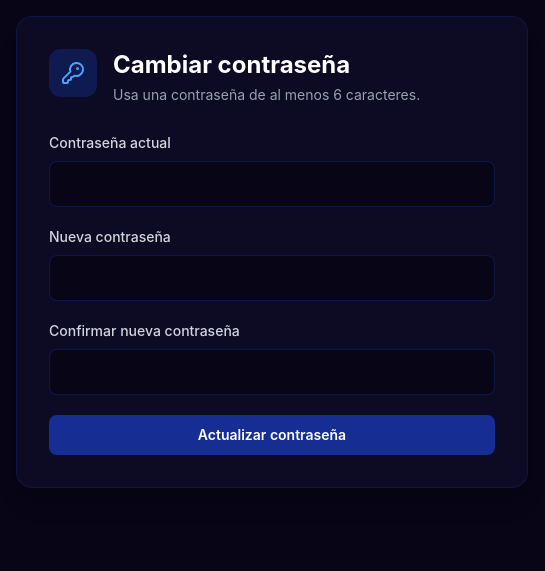
Test: ChangePasswordPage › no envía el formulario si la confirmación no coincide
In the password field labelled "Contraseña actual": (272, 184) [49,161,495,207], type "actual123"
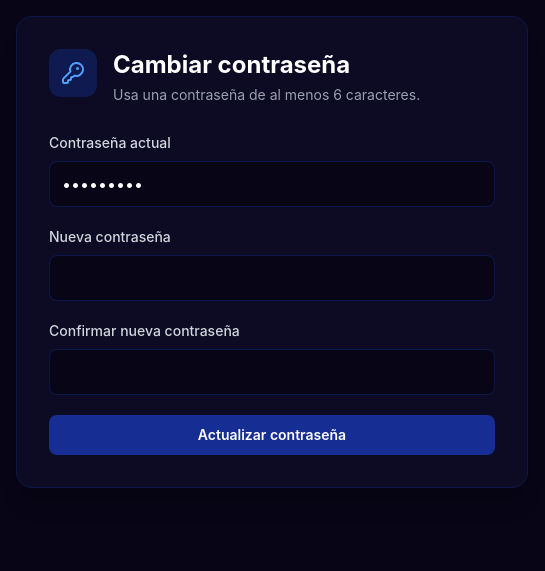
In the password field labelled "Nueva contraseña": (272, 278) [49,255,495,301], type "nueva123"
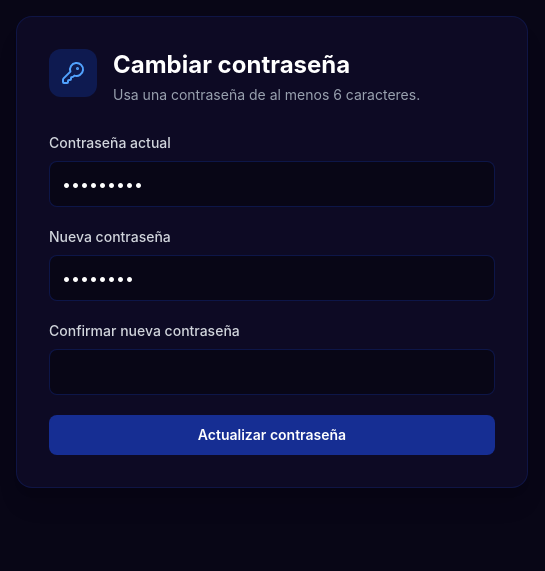
In the password field labelled "Confirmar nueva contraseña": (272, 372) [49,349,495,395], type "distinta123"
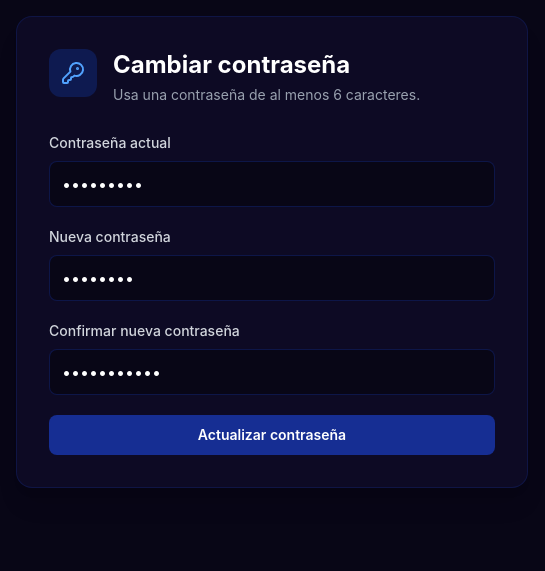
Click the button "Actualizar contraseña": (272, 435) [49,415,495,455]
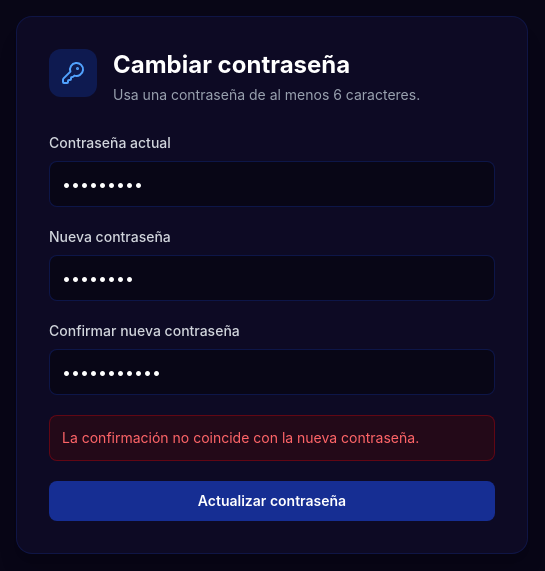
Now the text "La confirmación no coincide con la nueva contraseña." is shown, box [49,415,495,461]
